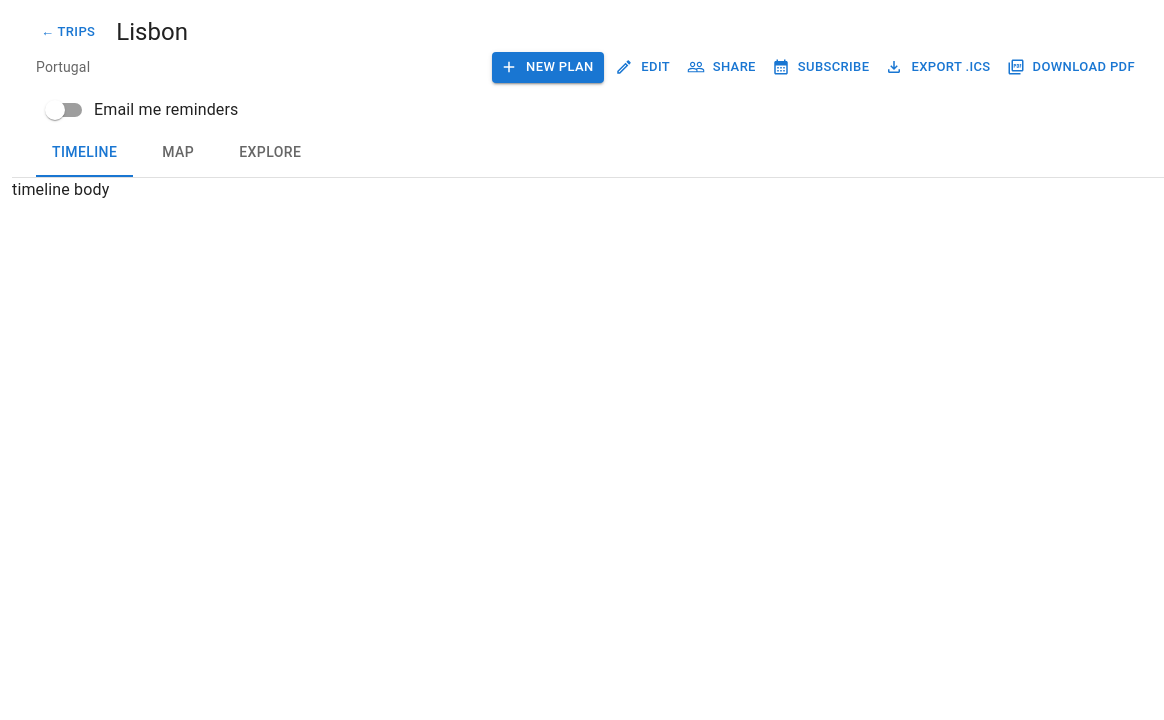
it: TripDetail › surfaces an error when the PDF export fails
Click the button "Download PDF".
click(1072, 67)  # box [1004,52,1140,83]
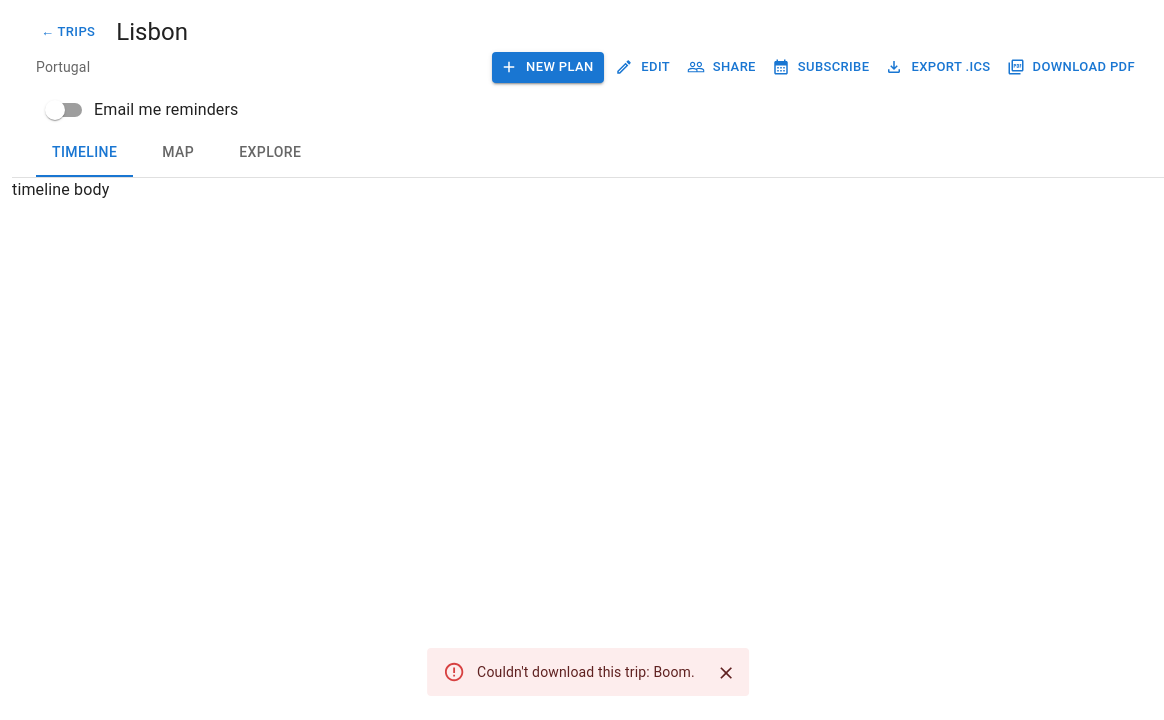
Now the text "Couldn't download this trip: Boom." is shown, box [477,664,695,680]
